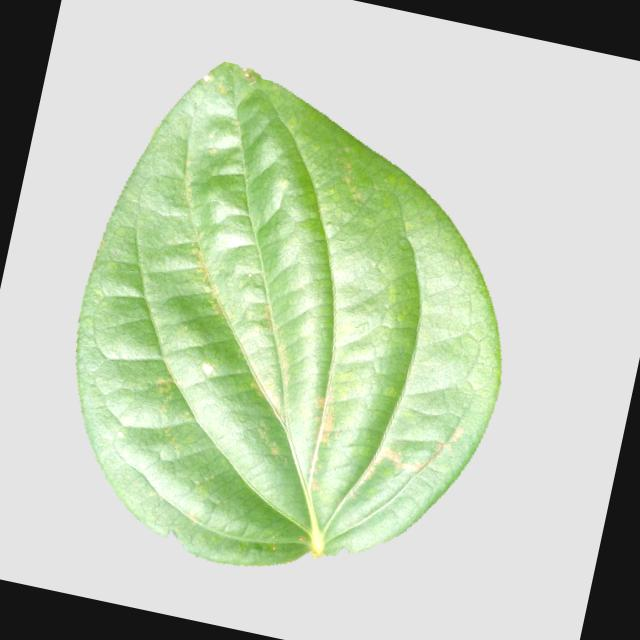healthy: (26, 24, 560, 624)
